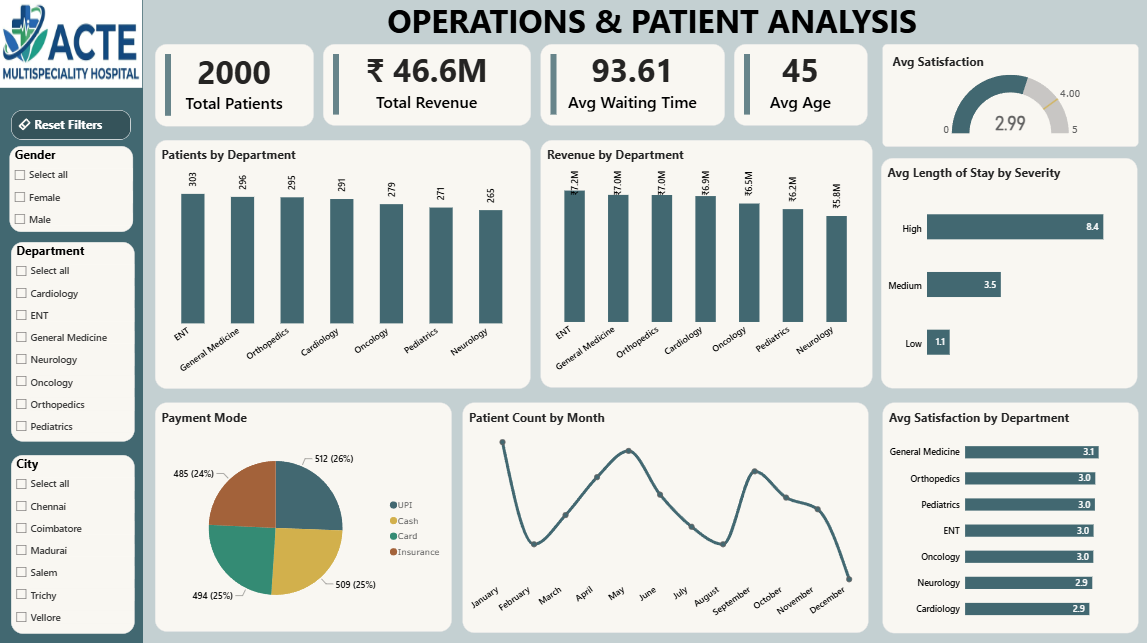

Layout of this report page (visuals, bound fields, positions):
{"tool":"powerbi","page":{"name":"Page 1","canvas":[1920,1080],"ordinal":0},"visuals":[{"type":"shape","box":[0,0,240,1080],"z":0},{"type":"cardVisual","fields":{"Data":["hospitaldata.Total Patients"]},"box":[260.1,74,264.4,137.5],"z":1000},{"type":"cardVisual","fields":{"Data":["hospitaldata.Total Revenue"]},"box":[539.2,75,347,136],"z":2000},{"type":"cardVisual","fields":{"Data":["hospitaldata.Avg Waiting Time"]},"box":[902.6,75,307.1,136],"z":3000},{"type":"textbox","box":[257.9,0,1662.2,75],"z":4000},{"type":"columnChart","title":"Patients by Department","fields":{"Category":["hospitaldata.Department"],"Y":["CountNonNull(hospitaldata.PatientID)"]},"box":[260.2,234.4,626,415],"z":5000},{"type":"columnChart","title":"Revenue by Department","fields":{"Category":["hospitaldata.Department"],"Y":["hospitaldata.Total Revenue"]},"box":[902.6,234.4,553.3,412.6],"z":6000},{"type":"pieChart","title":"Payment Mode","fields":{"Category":["hospitaldata.PaymentMode"],"Y":["CountNonNull(hospitaldata.PatientID)"]},"box":[260.2,672.9,494.7,382.2],"z":7000},{"type":"lineChart","fields":{"Category":["hospitaldata.VisitDate.Variation.Date Hierarchy.Month"],"Y":["hospitaldata.Patient Count"]},"box":[772.8,672,676.8,384],"z":8000},{"type":"barChart","fields":{"Category":["hospitaldata.Department"],"Y":["hospitaldata.Avg Satisfaction"]},"box":[1472.3,672.9,426.7,384.5],"z":9000},{"type":"gauge","fields":{"Y":["hospitaldata.Avg Satisfaction"]},"box":[1472.3,75,426.7,171.1],"z":10000},{"type":"cardVisual","fields":{"Data":["hospitaldata.Avg Age"]},"box":[1226.2,75,222.7,136],"z":11000},{"type":"slicer","fields":{"Values":["hospitaldata.Department"]},"box":[19,406.1,206.3,332.9],"z":12000},{"type":"slicer","fields":{"Values":["hospitaldata.City"]},"box":[21.1,759.3,206.3,297.7],"z":13000},{"type":"slicer","fields":{"Values":["hospitaldata.Gender"]},"box":[16.9,245.3,206.3,143],"z":14000},{"type":"barChart","title":"Avg Length of Stay by Severity","fields":{"Category":["hospitaldata.Severity"],"Y":["hospitaldata.Avg Length of Stay"]},"box":[1471.2,264,427.2,384],"z":15000},{"type":"actionButton","box":[18.8,185.2,200,50],"z":16000},{"type":"image","box":[0,0,239,148],"z":17000}]}

Visuals, with their boxes in screenshot pixels (x1, y1, x2, y2), scaled from the page's 1920x1080 canvas onto the 1147x643 screenshot:
shape: Rect(0, 0, 143, 642)
cardVisual - hospitaldata.Total Patients: Rect(155, 44, 313, 126)
cardVisual - hospitaldata.Total Revenue: Rect(322, 45, 529, 126)
cardVisual - hospitaldata.Avg Waiting Time: Rect(539, 45, 723, 126)
textbox: Rect(154, 0, 1146, 45)
"Patients by Department" columnChart: Rect(155, 140, 529, 387)
"Revenue by Department" columnChart: Rect(539, 140, 870, 385)
"Payment Mode" pieChart: Rect(155, 401, 451, 628)
lineChart - hospitaldata.VisitDate.Variation.Date Hierarchy.Month x hospitaldata.Patient Count: Rect(462, 400, 866, 629)
barChart - hospitaldata.Department x hospitaldata.Avg Satisfaction: Rect(880, 401, 1134, 630)
gauge - hospitaldata.Avg Satisfaction: Rect(880, 45, 1134, 147)
cardVisual - hospitaldata.Avg Age: Rect(733, 45, 866, 126)
slicer - hospitaldata.Department: Rect(11, 242, 135, 440)
slicer - hospitaldata.City: Rect(13, 452, 136, 629)
slicer - hospitaldata.Gender: Rect(10, 146, 133, 231)
"Avg Length of Stay by Severity" barChart: Rect(879, 157, 1134, 386)
actionButton: Rect(11, 110, 131, 140)
image: Rect(0, 0, 143, 88)
